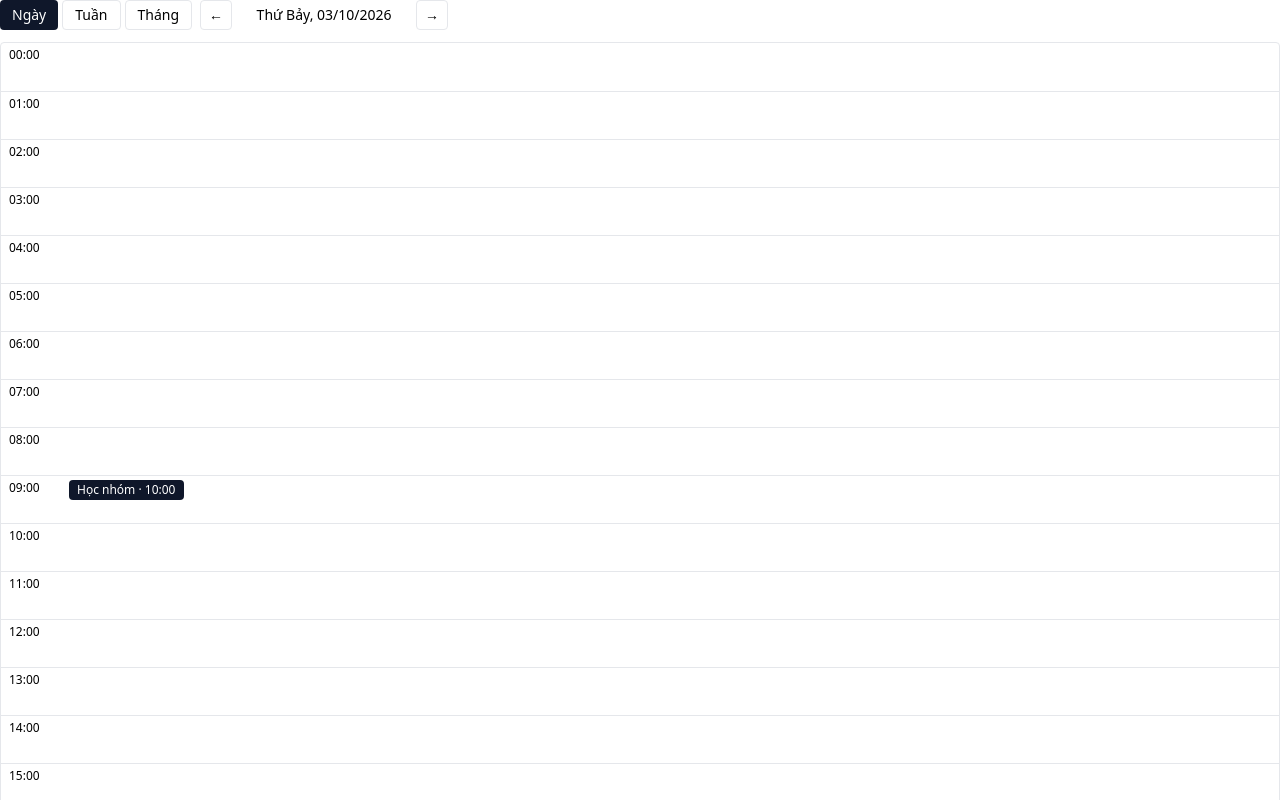
CalendarView navigation › click một ngày trong lưới tháng chuyển sang day view ở đúng ngày
Click the button "Tháng".
click(158, 15)  # box 124,0 -> 192,30
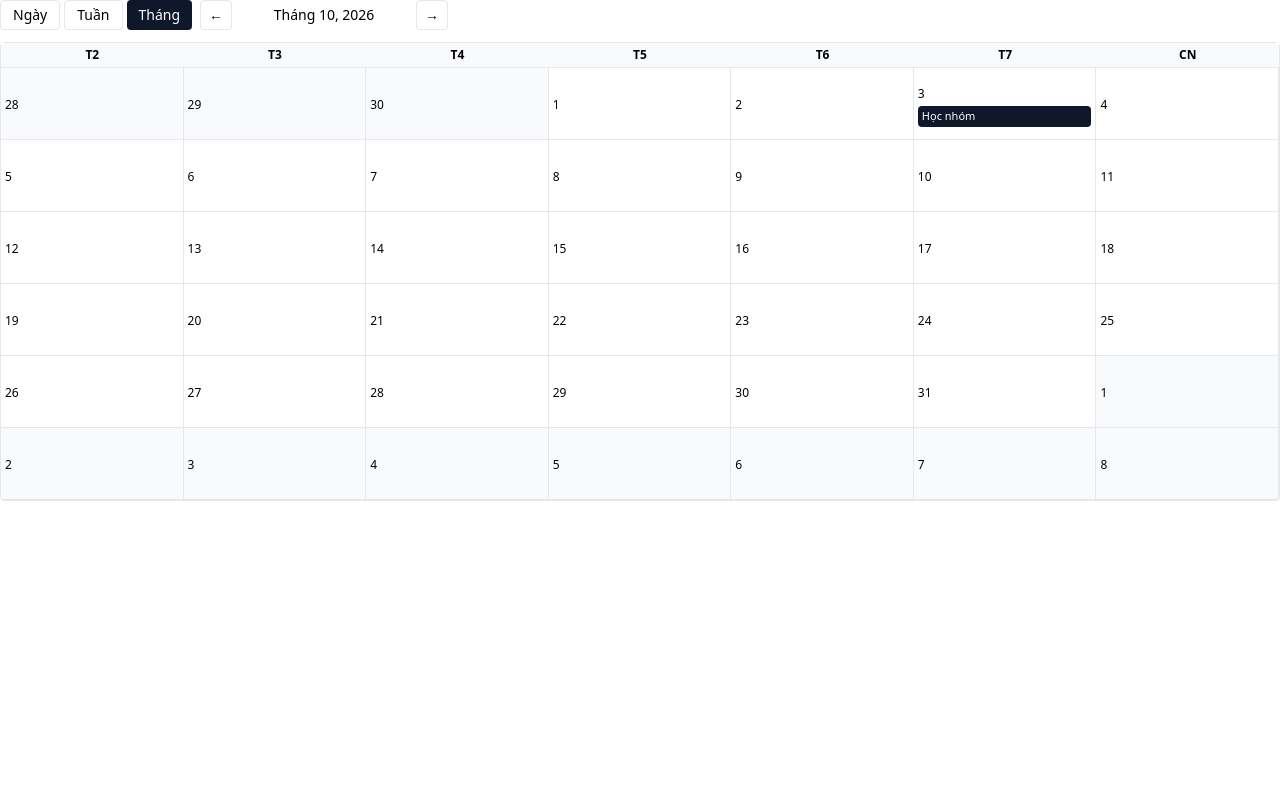
Click the button with test id "month-day-2026-10-15".
click(640, 248)  # box 549,212 -> 731,284
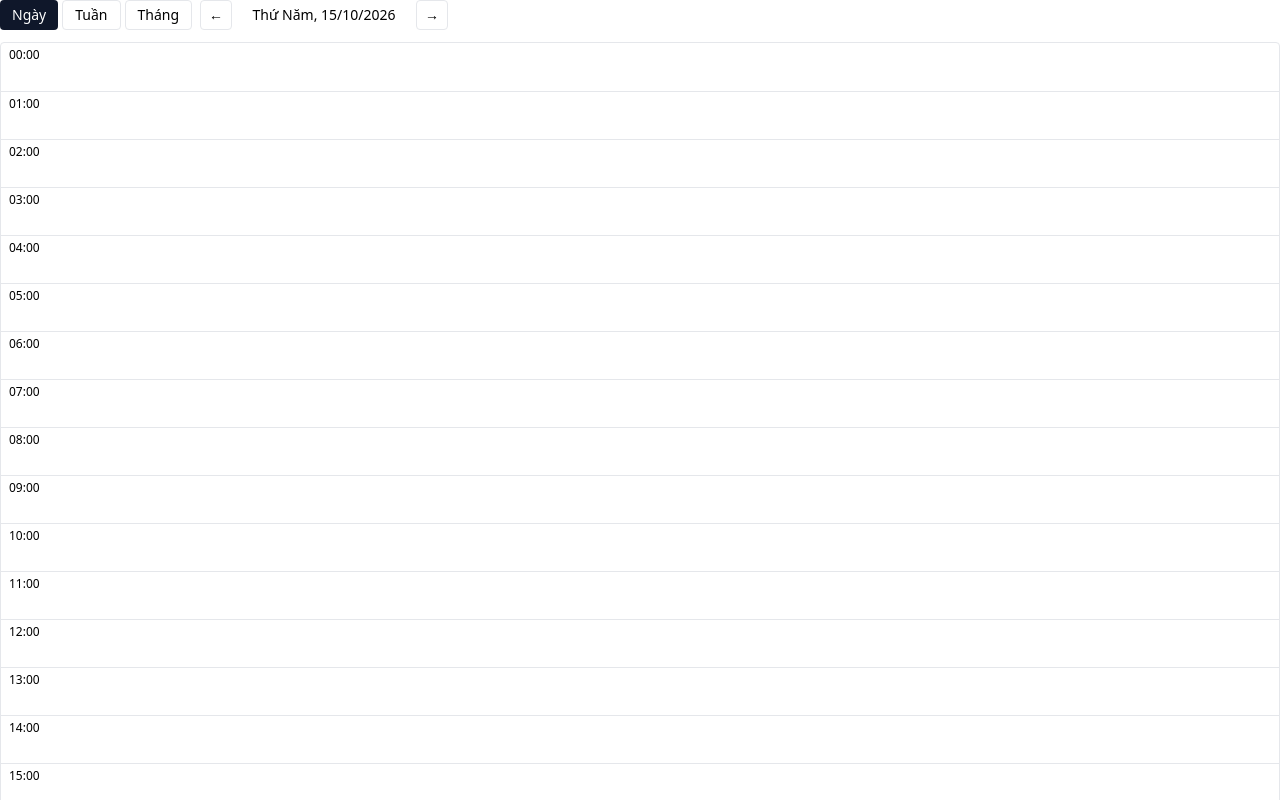
Expected: the text "Thứ Năm, 15/10/2026" is shown, 253,5 -> 396,24
